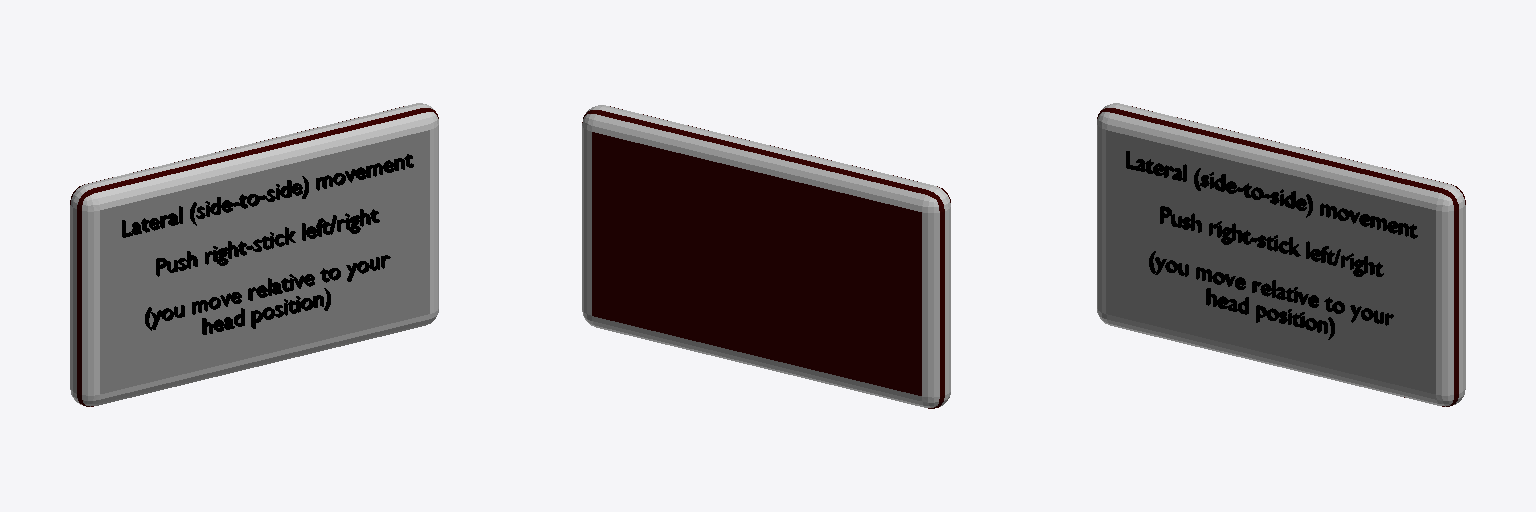
Rendered from box_lateral.obj.
3 renders of one model, left to right at view 1: azimuth 30°, elevation 25°; view 2: azimuth 150°, elevation 25°; view 3: azimuth 330°, elevation 25°, orthographic.
Parts seen in each view (by area): view 1: box_lateral; view 2: box_lateral; view 3: box_lateral.
Boxes of the visible parts, x1,y1,x2,y2 form: box_lateral: [70, 103, 438, 406]; box_lateral: [582, 105, 950, 408]; box_lateral: [1097, 103, 1465, 406].
Size of the model in its own units: 0.5 by 0.2887 by 0.0531.